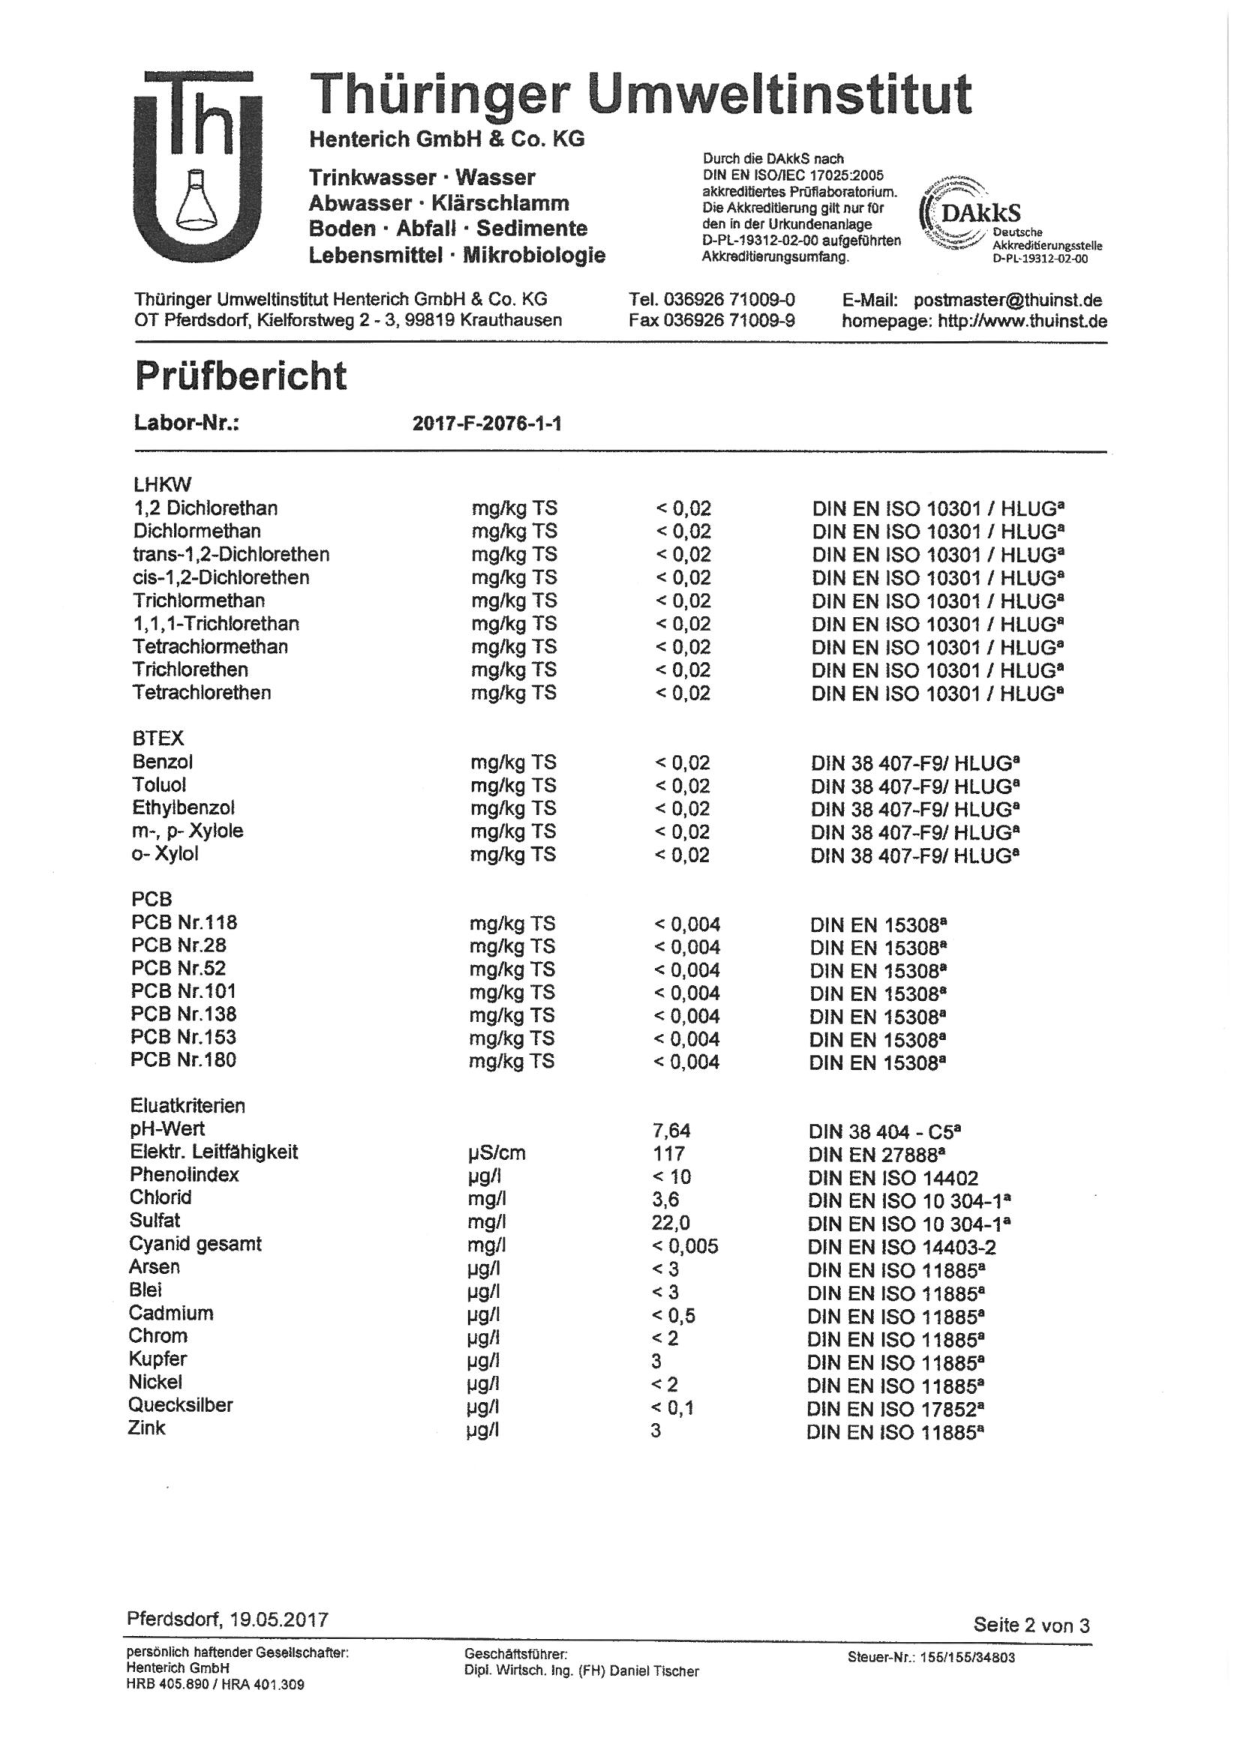table: (119, 1090, 1027, 1459), (115, 460, 1099, 705), (123, 883, 958, 1076), (119, 723, 1062, 871)
